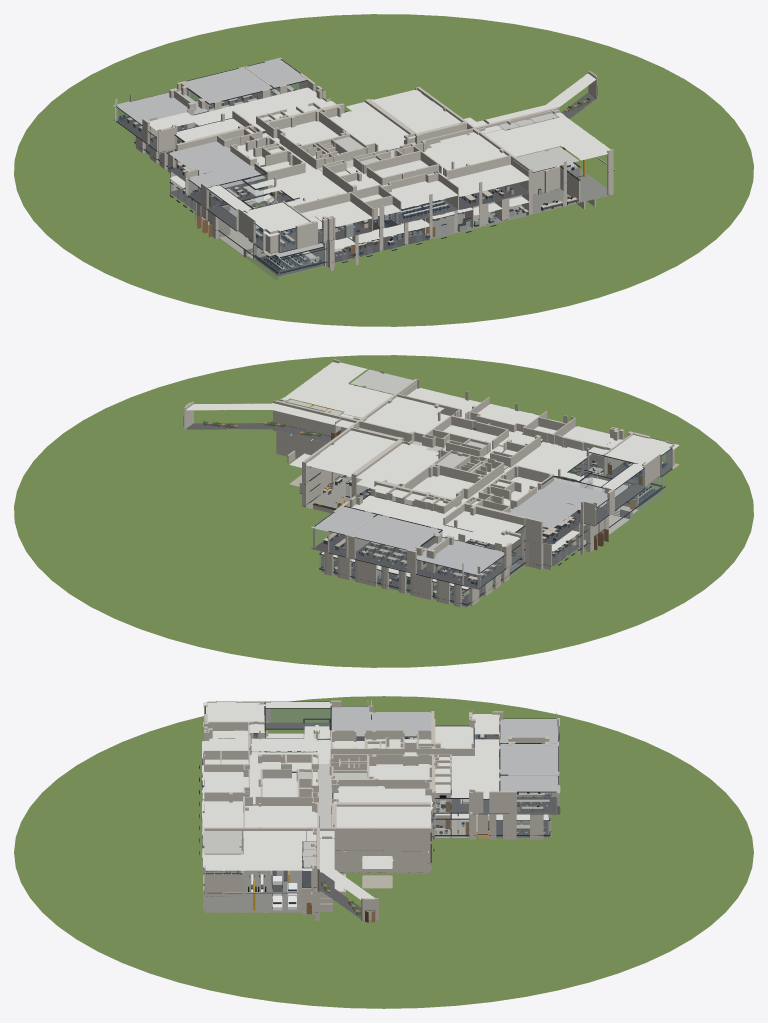
Rendered from ted_vr.glb.
3 views of the same model, one above another, from view 1: azimuth 30°, elevation 25°; view 2: azimuth 150°, elevation 25°; view 3: azimuth 270°, elevation 25° (orthographic).
Parts seen in each view (by area): view 1: ground, int_wall_126, int_GWB-X1_59, int_MT-01_149, int_GWB-X1_145, int_wall_34, int_glass_128, int_glass_36, int_ACT-03_148, int_ACT-02_151, int_15790316_150, int_ACT-04_147 (+13 smaller); view 2: ground, int_wall_126, int_GWB-X1_59, int_MT-01_149, int_wall_34, int_GWB-X1_145, int_glass_128, int_ACT-03_148, int_glass_36, int_15790316_150, int_RF-02_136, int_ACT-04_147 (+8 smaller); view 3: ground, int_wall_126, int_GWB-X1_59, int_MT-01_149, int_GWB-X1_145, int_wall_34, int_glass_128, int_EP-01_41, int_ACT-03_148, int_ACT-04_147, int_15790316_150, int_ACT-02_151 (+7 smaller).
Boxes of the visible parts, x1=… form: ground: x1=14, y1=14, x2=753, y2=326; int_wall_126: x1=115, y1=58, x2=613, y2=253; int_GWB-X1_59: x1=170, y1=90, x2=610, y2=228; int_MT-01_149: x1=113, y1=57, x2=306, y2=191; int_GWB-X1_145: x1=229, y1=111, x2=459, y2=208; int_wall_34: x1=136, y1=136, x2=615, y2=268; int_glass_128: x1=116, y1=81, x2=580, y2=251; int_glass_36: x1=134, y1=135, x2=495, y2=281; int_ACT-03_148: x1=176, y1=118, x2=382, y2=231; int_ACT-02_151: x1=301, y1=164, x2=528, y2=229; int_15790316_150: x1=149, y1=73, x2=595, y2=236; int_ACT-04_147: x1=192, y1=87, x2=349, y2=176; ground: x1=14, y1=355, x2=753, y2=667; int_wall_126: x1=184, y1=359, x2=674, y2=588; int_GWB-X1_59: x1=282, y1=362, x2=627, y2=576; int_MT-01_149: x1=311, y1=481, x2=607, y2=574; int_wall_34: x1=272, y1=401, x2=638, y2=607; int_GWB-X1_145: x1=356, y1=404, x2=591, y2=509; int_glass_128: x1=316, y1=386, x2=670, y2=586; int_ACT-03_148: x1=446, y1=426, x2=672, y2=533; int_glass_36: x1=319, y1=475, x2=665, y2=607; int_15790316_150: x1=186, y1=403, x2=679, y2=546; int_RF-02_136: x1=311, y1=464, x2=608, y2=589; int_ACT-04_147: x1=351, y1=449, x2=516, y2=542; ground: x1=14, y1=696, x2=753, y2=1008; int_wall_126: x1=203, y1=700, x2=559, y2=921; int_GWB-X1_59: x1=203, y1=733, x2=470, y2=870; int_MT-01_149: x1=331, y1=705, x2=560, y2=793; int_GWB-X1_145: x1=202, y1=726, x2=433, y2=827; int_wall_34: x1=204, y1=729, x2=551, y2=912; int_glass_128: x1=203, y1=708, x2=556, y2=873; int_EP-01_41: x1=202, y1=825, x2=312, y2=912; int_ACT-03_148: x1=206, y1=702, x2=473, y2=764; int_ACT-04_147: x1=287, y1=739, x2=499, y2=798; int_15790316_150: x1=203, y1=702, x2=499, y2=899; int_ACT-02_151: x1=202, y1=730, x2=260, y2=835.
Size of what is drawn, in the model's own units: 134 by 13.5 by 134.
